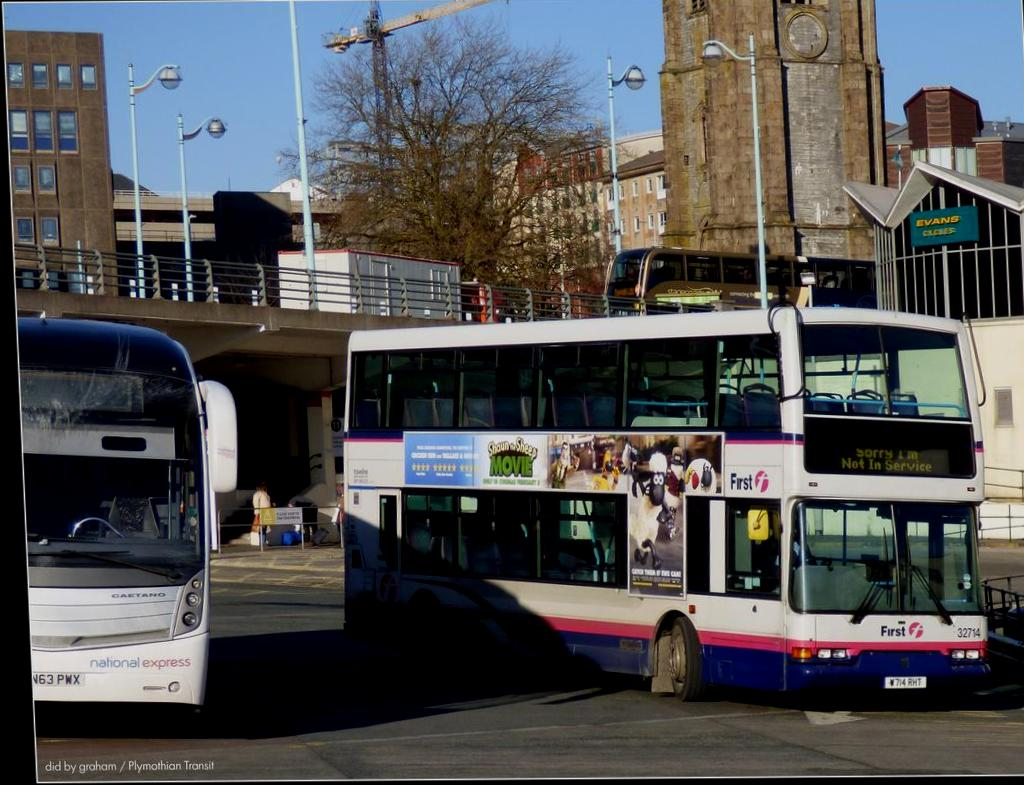License_Plate: (32, 672, 82, 687), (882, 675, 926, 687)
